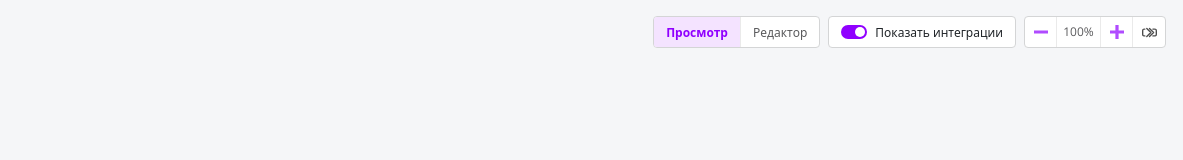
it: Toolbar › первый клик по «Сбросить правки» ничего не удаляет, а спрашивает
Click the button "Редактор". click: (780, 32)
box: [741, 17, 819, 47]
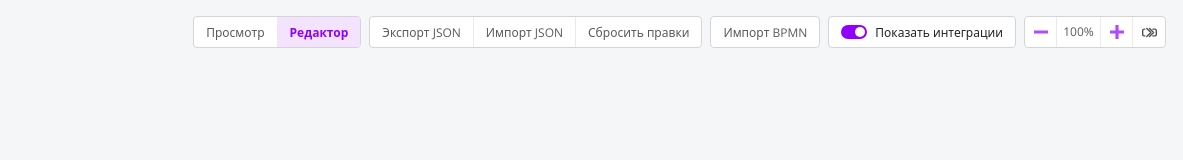
Click the button "Сбросить правки". click: (639, 32)
box: [576, 17, 701, 47]
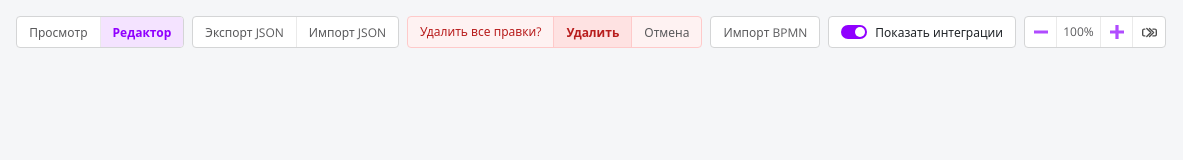
Now the button "Сбросить правки" is gone
Now the element "Удалить все правки?" is shown, box [407, 16, 702, 48]
Now the text "Удалить все правки?" is shown, box [420, 23, 541, 40]
